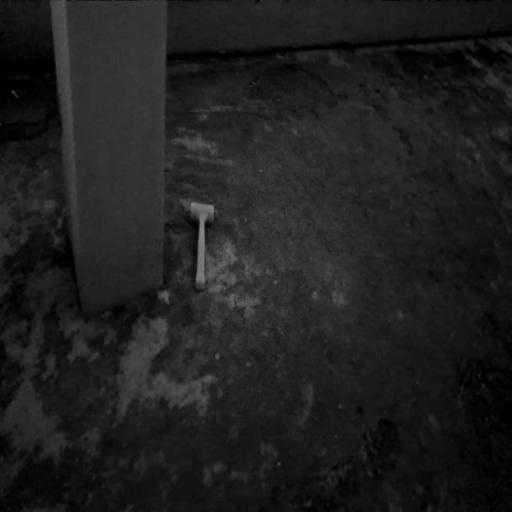mallet: (190, 202, 214, 290)
